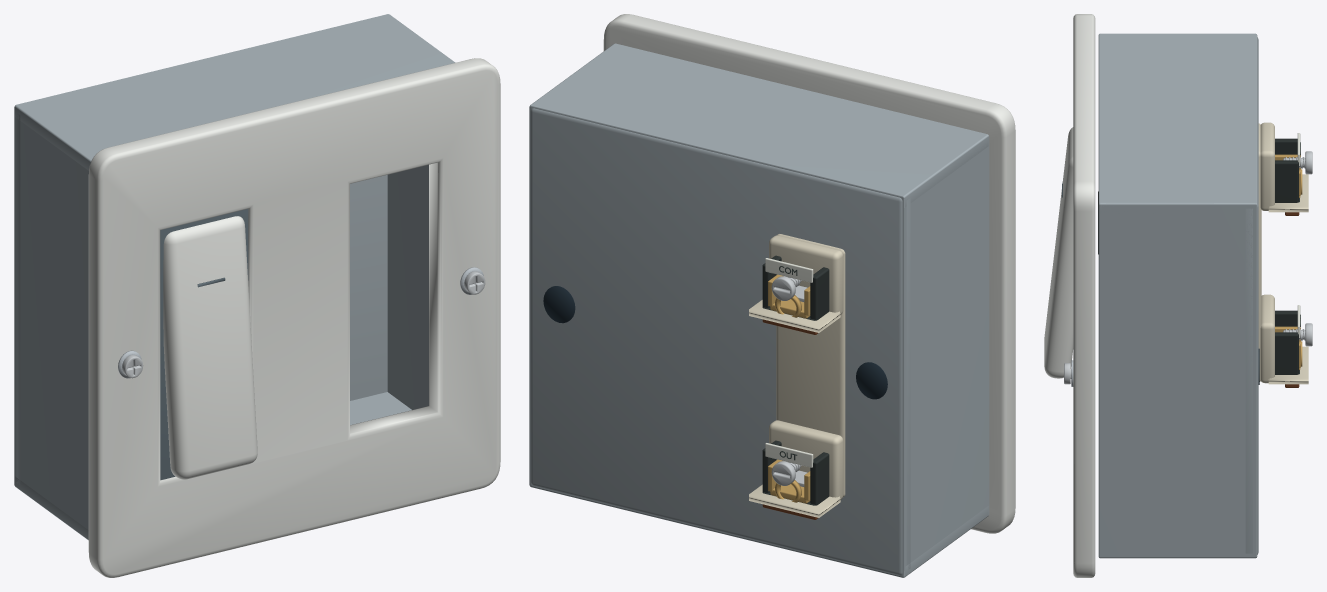
File: switch_gang-module-left.glb
The picture shows the model from 3 angles, left to right: view 1: azimuth 30°, elevation 25°; view 2: azimuth 150°, elevation 25°; view 3: azimuth 270°, elevation 25°; orthographic projection. The views are drawn at different scales.
Parts seen in each view (by area): view 1: part:cover, part:body · Original 2a8198d3, motion:rocker, part:actuator, detail:faceplate-fixing · Detail zinc plated fixing; view 2: part:body · Original 2a8198d3, part:cover, part:terminals · Original 5a609f27, part:body · Original a463fd81, detail:terminal-clamp:COM · Detail moulded engineering polym, detail:terminal-clamp:OUT · Detail moulded engineering polym, detail:terminal-clamp:COM · Detail machined brass, detail:terminal-clamp:OUT · Detail machined brass, Moulded terminal legend pad.001, Moulded terminal legend pad, detail:terminal-clamp:COM · Detail zinc plated fixing, detail:terminal-clamp:OUT · Detail zinc plated fixing; view 3: part:body · Original 2a8198d3, part:cover, motion:rocker, part:terminals · Original 5a609f27, detail:terminal-clamp:COM · Detail moulded engineering polym, detail:terminal-clamp:OUT · Detail moulded engineering polym.
Part boxes in pixels (<box>): part:cover: <box>88,58,500,577</box>; part:body · Original 2a8198d3: <box>14,14,455,540</box>; motion:rocker: <box>163,216,257,479</box>; part:actuator: <box>160,209,248,480</box>; detail:faceplate-fixing · Detail zinc plated fixing: <box>122,271,485,378</box>; part:body · Original 2a8198d3: <box>529,43,989,577</box>; part:cover: <box>603,14,1015,533</box>; part:terminals · Original 5a609f27: <box>749,234,845,517</box>; part:body · Original a463fd81: <box>543,286,887,399</box>; detail:terminal-clamp:COM · Detail moulded engineering polym: <box>762,255,829,320</box>; detail:terminal-clamp:OUT · Detail moulded engineering polym: <box>762,440,829,505</box>; detail:terminal-clamp:COM · Detail machined brass: <box>768,274,810,318</box>; detail:terminal-clamp:OUT · Detail machined brass: <box>768,459,810,503</box>; Moulded terminal legend pad.001: <box>765,443,813,467</box>; Moulded terminal legend pad: <box>765,258,813,282</box>; detail:terminal-clamp:COM · Detail zinc plated fixing: <box>771,276,807,302</box>; detail:terminal-clamp:OUT · Detail zinc plated fixing: <box>771,461,807,486</box>; part:body · Original 2a8198d3: <box>1098,33,1258,558</box>; part:cover: <box>1073,14,1095,577</box>; motion:rocker: <box>1044,127,1073,378</box>; part:terminals · Original 5a609f27: <box>1258,122,1308,384</box>; detail:terminal-clamp:COM · Detail moulded engineering polym: <box>1275,138,1299,202</box>; detail:terminal-clamp:OUT · Detail moulded engineering polym: <box>1275,310,1299,374</box>.
Bounding box in the file's own units: 0.9765 × 0.9813 × 0.605.
